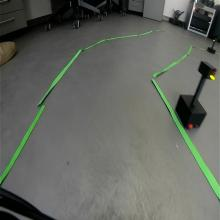green: (197, 58, 218, 82)
